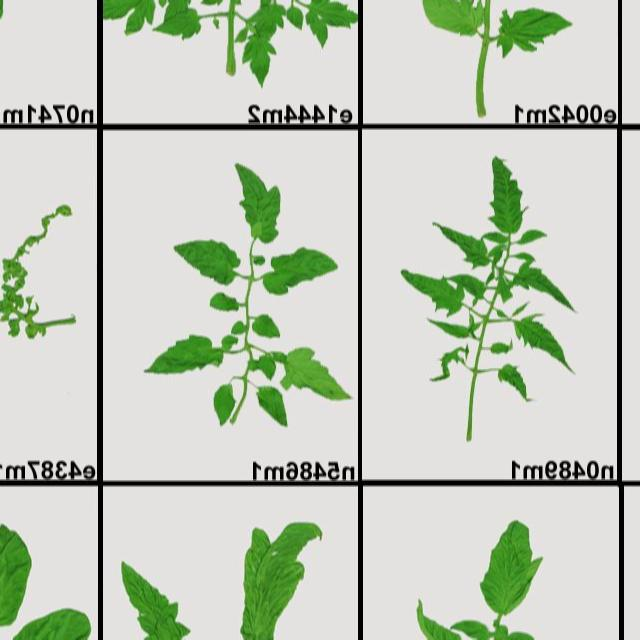Tomato leaf: (478, 146, 533, 234), (407, 0, 501, 49), (241, 147, 284, 252), (165, 238, 254, 287), (0, 0, 70, 32)
